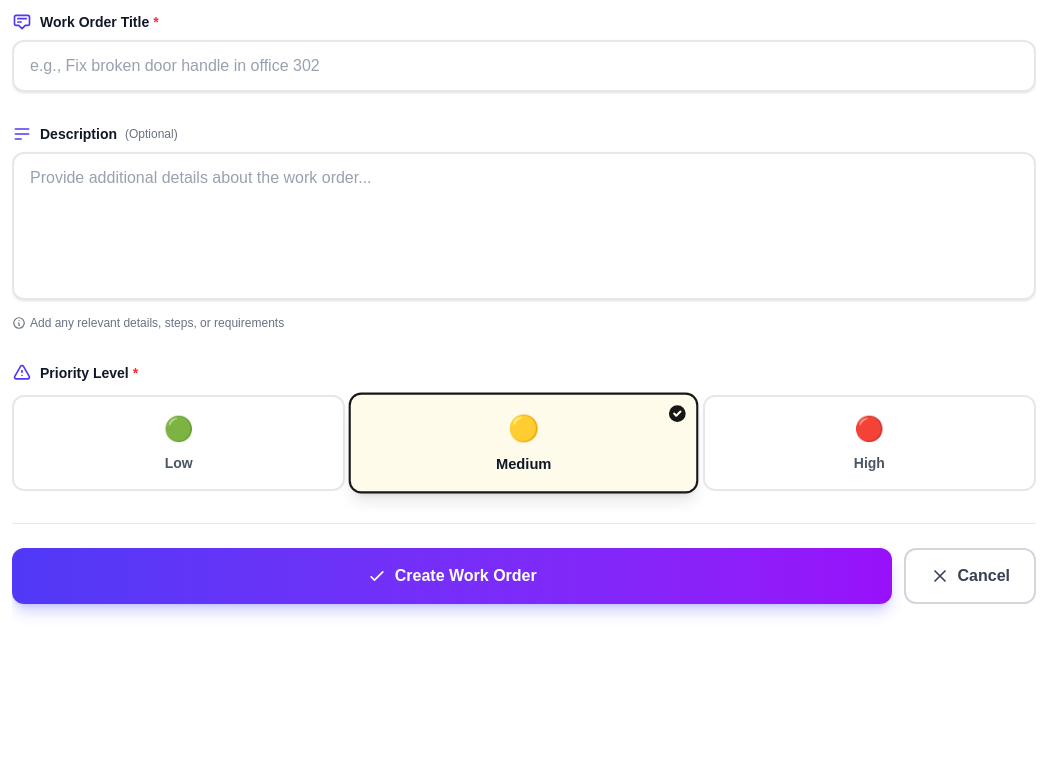
it: WorkOrderForm › Create Mode › handles network errors gracefully
Step 1. Type "Test Title" into the field labelled "Work Order Title *" → (524, 66), box [12,40,1036,92]
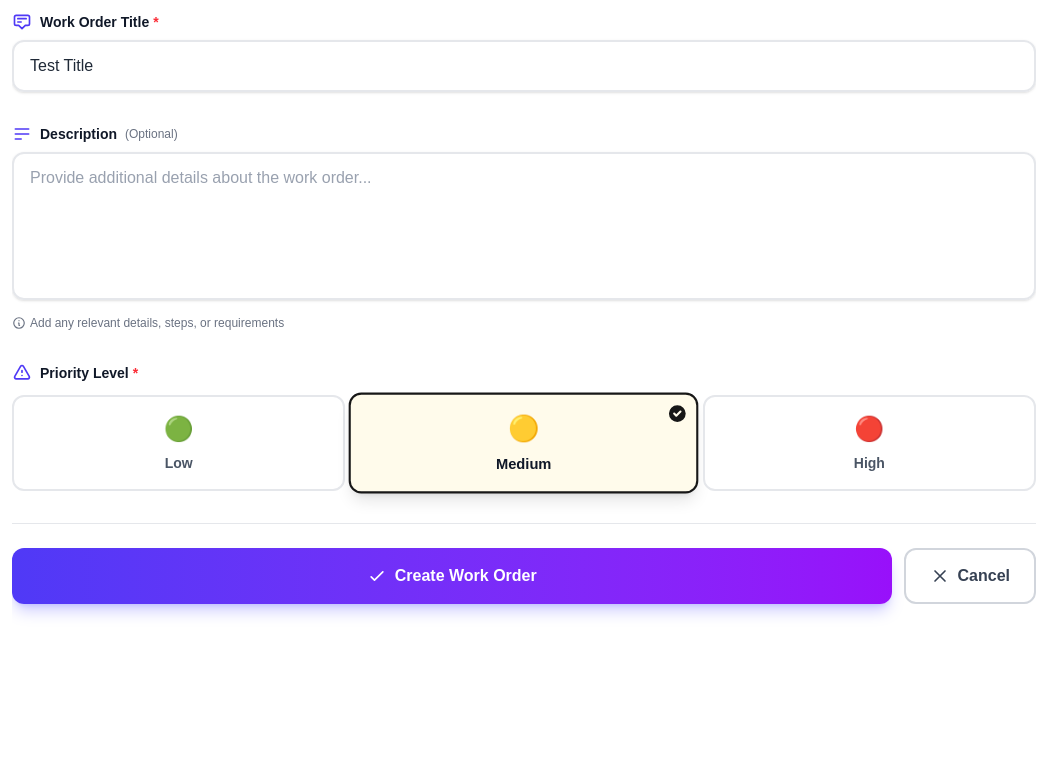
Step 2. Type "Test description" into the text box labelled "Description (Optional)" → (524, 226), box [12,152,1036,300]
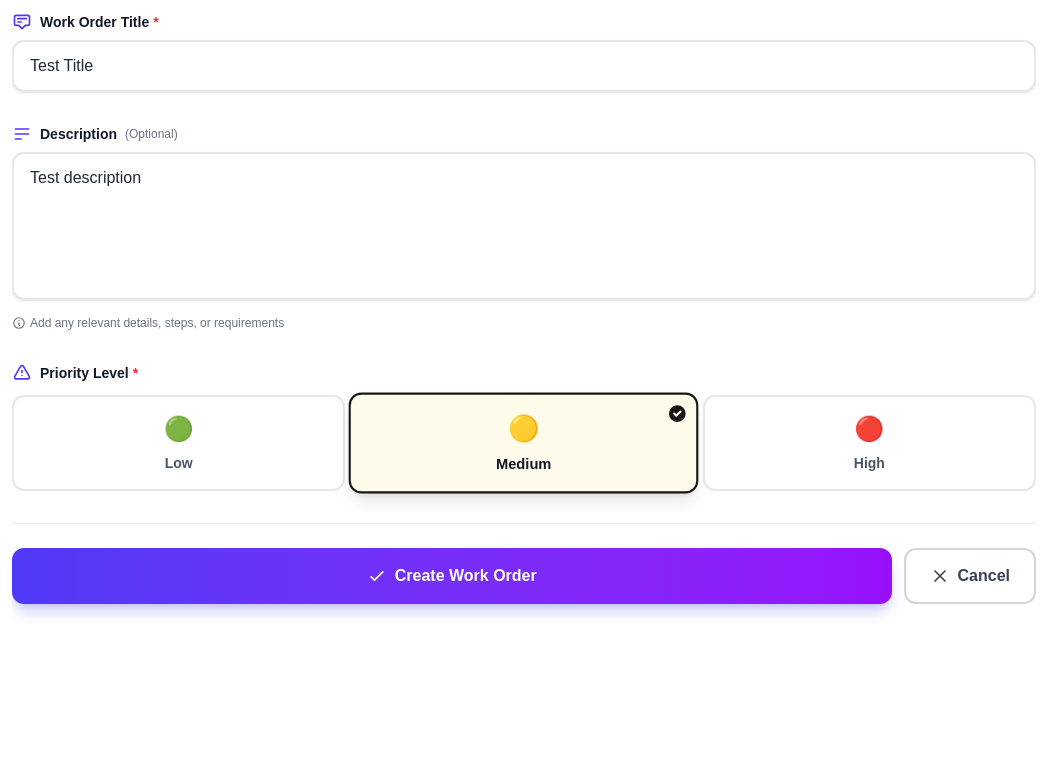
Step 3. Click the button "Create Work Order" → (452, 576), box [12,548,892,604]
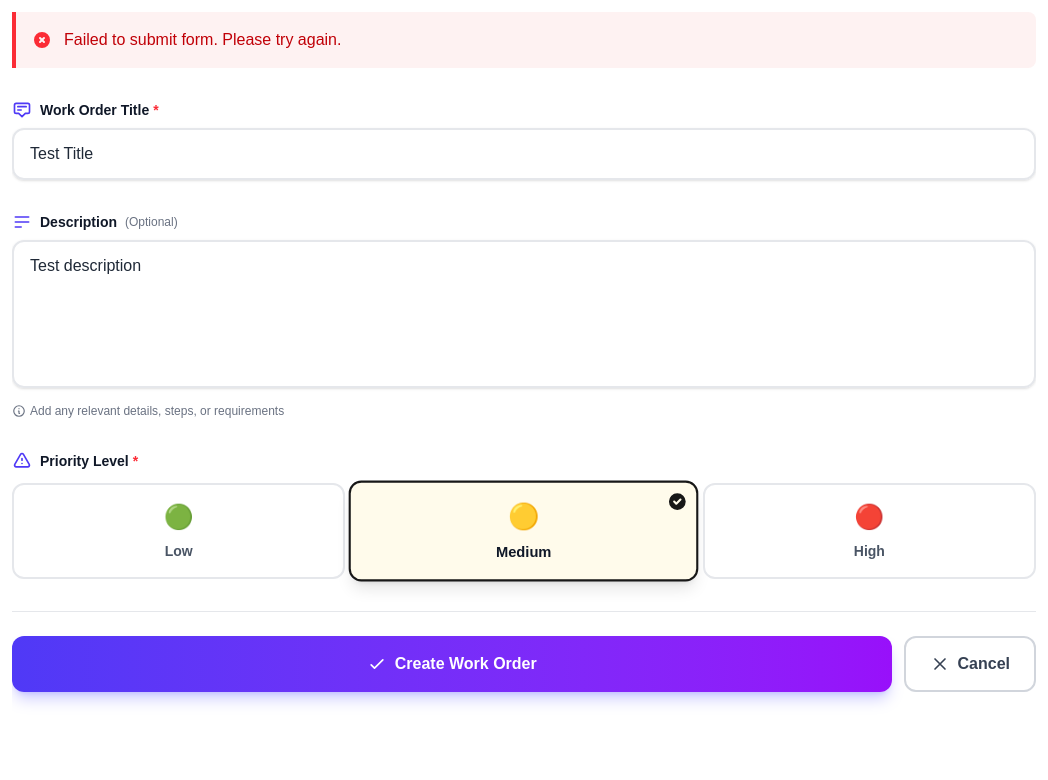
expect the text "Failed to submit form. Please try again." is shown: met, box [64,28,342,52]
